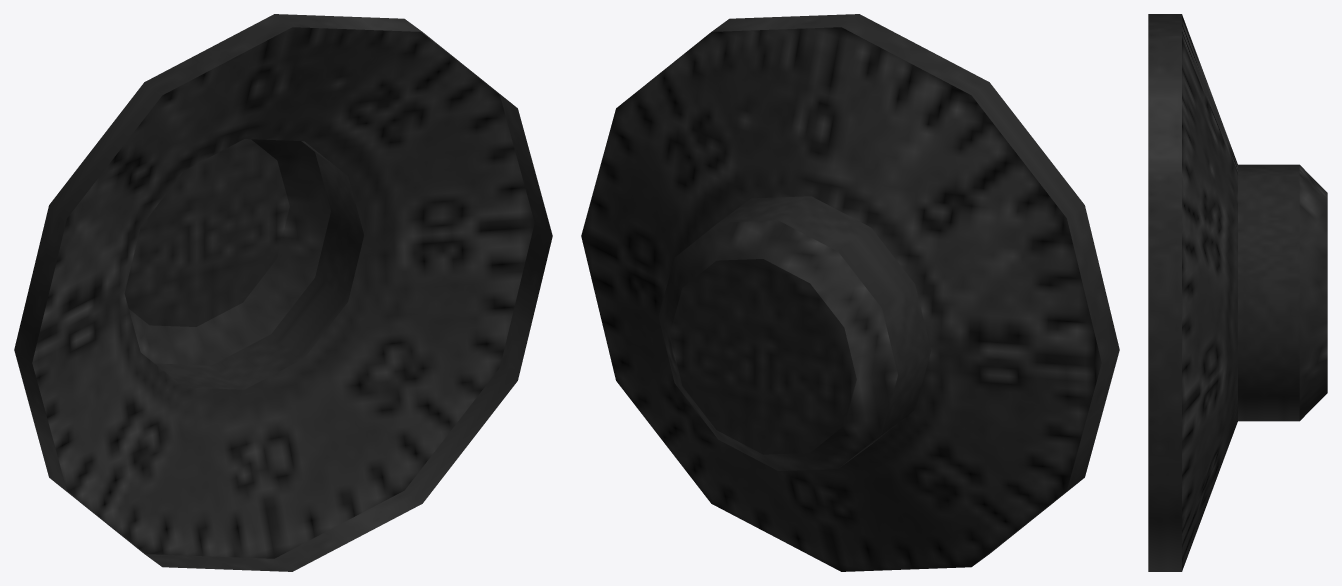
Rendered from padlock_4_knob.obj.
3 renders of one model, left to right at view 1: azimuth 30°, elevation 25°; view 2: azimuth 150°, elevation 25°; view 3: azimuth 270°, elevation 25°, orthographic. The views are drawn at different scales.
Parts seen in each view (by area): view 1: padlock_4_knob; view 2: padlock_4_knob; view 3: padlock_4_knob.
Boxes of the visible parts, x1,y1,x2,y2 form: padlock_4_knob: [14, 14, 552, 571]; padlock_4_knob: [581, 14, 1119, 571]; padlock_4_knob: [1148, 14, 1327, 571].
Bounding box in the file's own units: 0.05 × 0.05 × 0.016.
